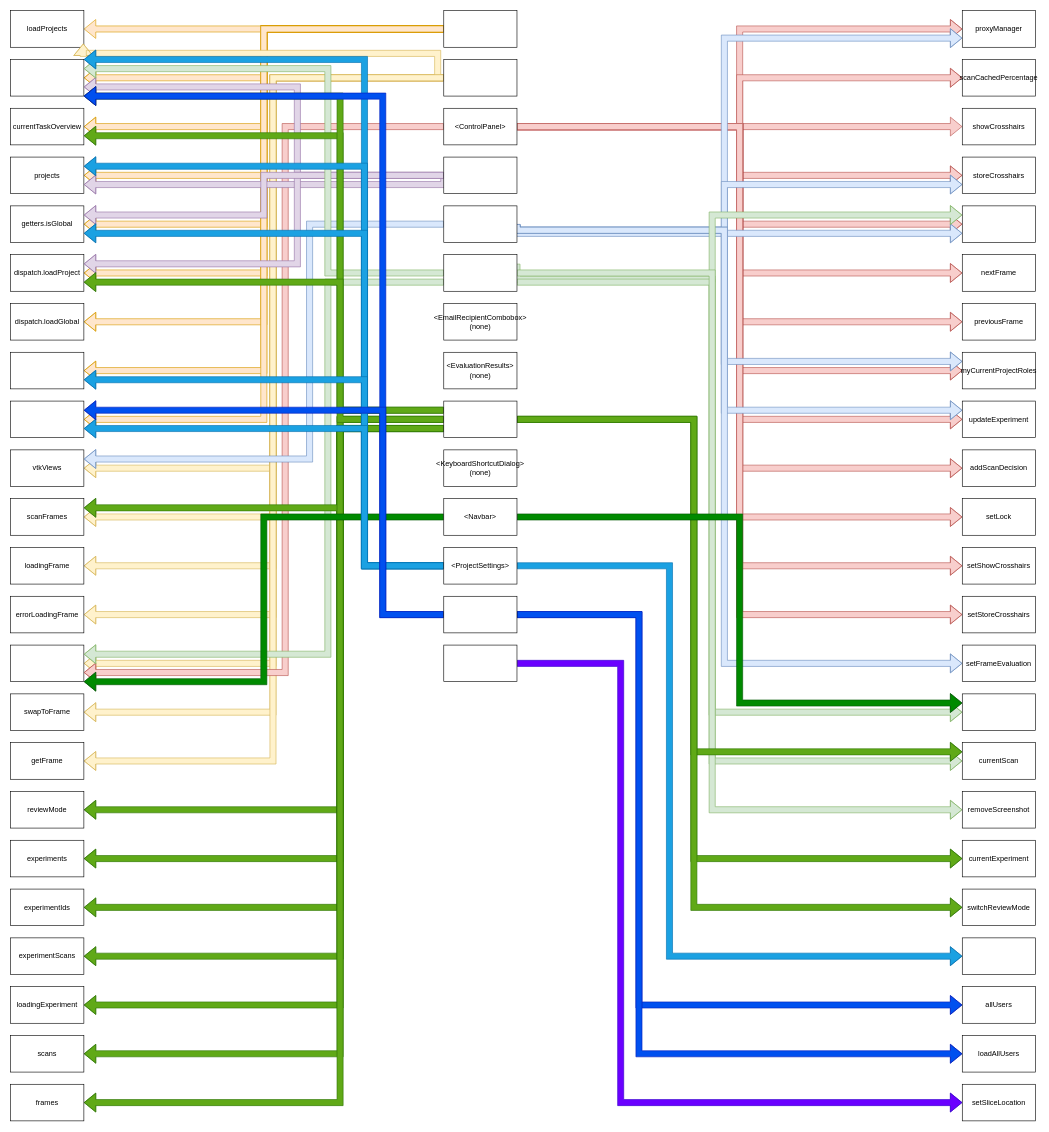
This 1049x1132 diagram has some shape labels left out. Here are the shapes that lost their labels. From the top down, the centre of each, then its label:
point 480,28: <Projects>
point 47,77: currentProject
point 480,77: <Frame>
point 480,175: <DataImportExport>
point 480,223: <DecisionButtons>
point 998,223: currentViewData
point 480,272: <EmailDialog>
point 47,370: setProjects
point 47,419: setCurrentProject
point 480,419: <ExperimentsView>
point 480,614: <ProjectUsers>
point 47,663: currentFrame
point 480,663: <ScanDecision>
point 998,711: screenshots
point 998,955: globalSettings
